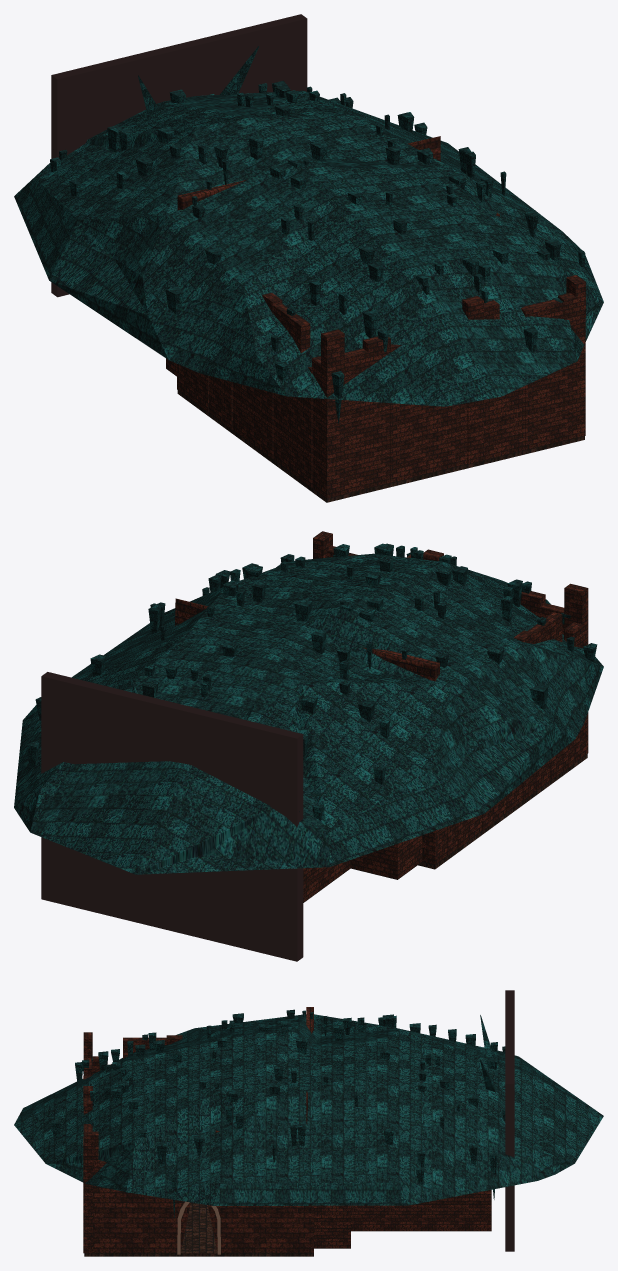
The model's file is room_1.mini.glb.
3 renders of one model, top to bottom at view 1: azimuth 30°, elevation 25°; view 2: azimuth 150°, elevation 25°; view 3: azimuth 270°, elevation 25°, orthographic. The views are drawn at different scales.
Visible parts, largest first — view 1: cave_ceiling, brick_wall_E, alcove_0, entrance_floor; view 2: cave_ceiling, alcove_0, brick_wall_E, entrance_floor; view 3: cave_ceiling, brick_wall_E, alcove_0, entrance_floor.
Part boxes in pixels (left/top/right/bottom): cave_ceiling: left=14, top=46, right=603, bottom=423; brick_wall_E: left=166, top=136, right=585, bottom=498; alcove_0: left=51, top=14, right=307, bottom=297; entrance_floor: left=177, top=390, right=584, bottom=502; cave_ceiling: left=14, top=543, right=603, bottom=874; alcove_0: left=41, top=672, right=303, bottom=961; brick_wall_E: left=175, top=531, right=588, bottom=902; entrance_floor: left=418, top=754, right=587, bottom=869; cave_ceiling: left=14, top=1009, right=603, bottom=1217; brick_wall_E: left=83, top=1007, right=491, bottom=1253; alcove_0: left=177, top=990, right=514, bottom=1254; entrance_floor: left=84, top=1202, right=313, bottom=1256.
Bounding box in the file's own units: 20.66 × 10.21 × 31.89.
Materials: 8 (8 with a texture image).
